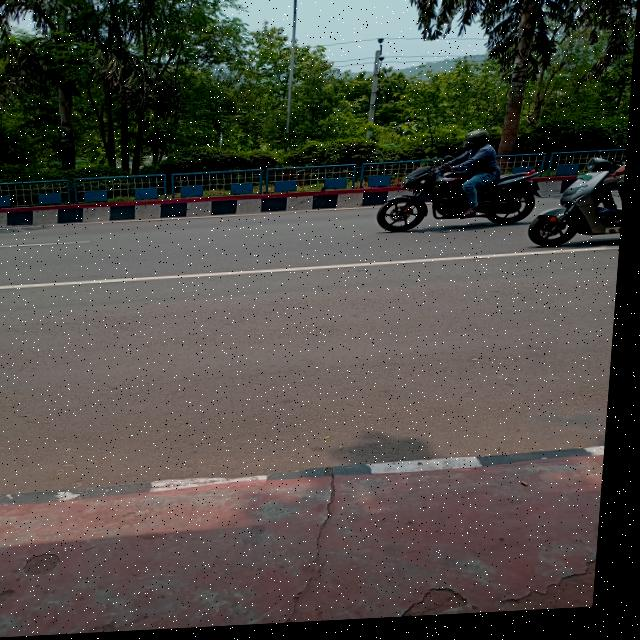bike: (378, 165, 548, 239), (534, 161, 629, 261)
